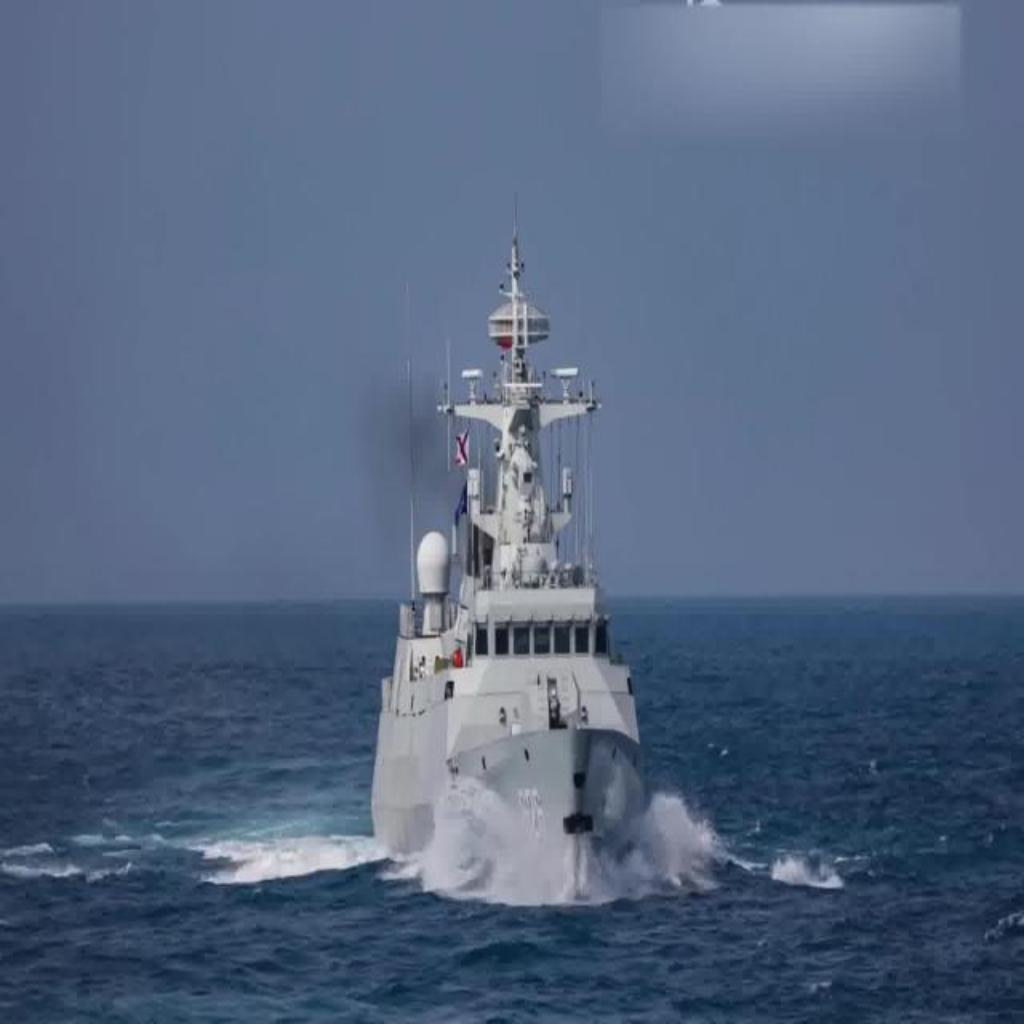Warship: (355, 199, 657, 903)
